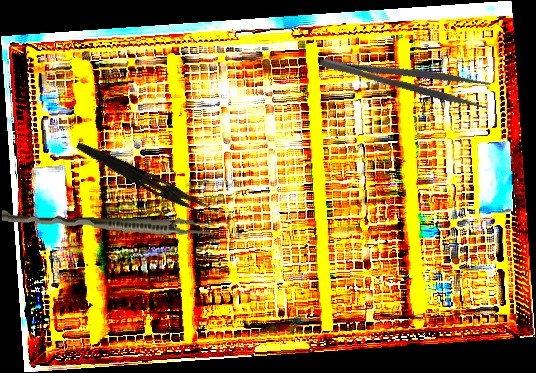Dressing Forceps: (316, 40, 495, 112), (72, 140, 221, 221)
Tissue Forceps: (1, 210, 215, 237)
